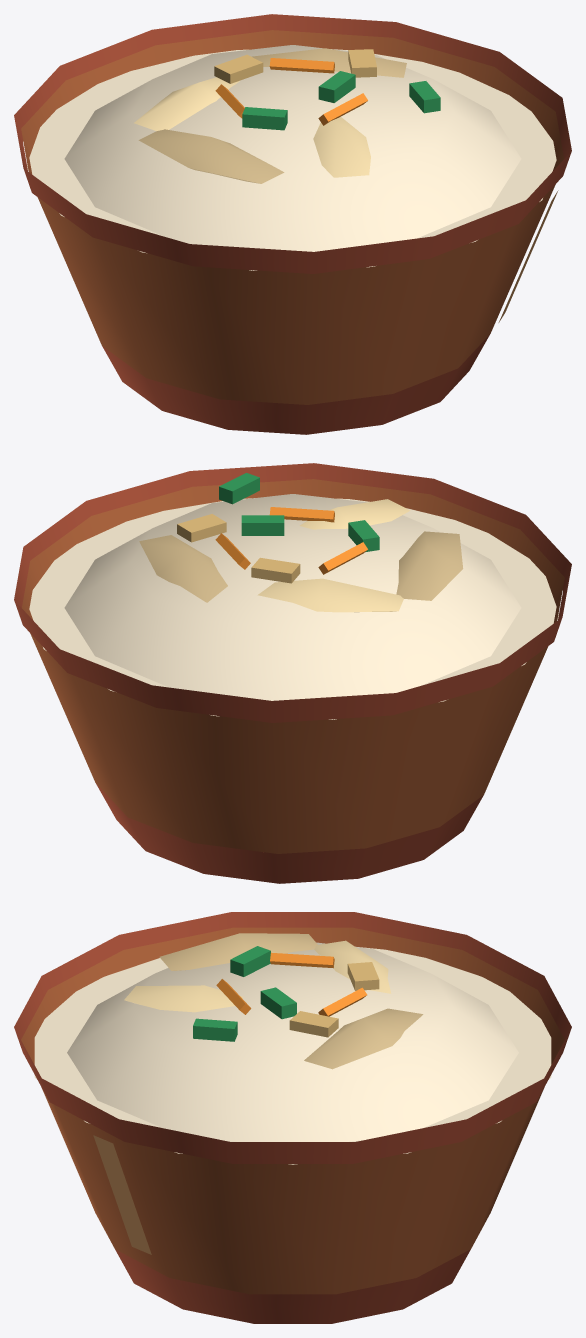
Rendered from pass_rabri.glb.
The picture shows the model from 3 angles, top to bottom: view 1: azimuth 30°, elevation 25°; view 2: azimuth 150°, elevation 25°; view 3: azimuth 270°, elevation 25°; orthographic projection.
Visible parts, largest first — view 1: pass_rabri; view 2: pass_rabri; view 3: pass_rabri.
Part boxes in pixels (box(x1,y1,x2,y2)): pass_rabri: box(14, 14, 571, 434); pass_rabri: box(14, 463, 571, 883); pass_rabri: box(14, 912, 571, 1323).
Size of the model in its own units: 0.154 by 0.085 by 0.158.
Materials: 1 (1 with a texture image).
